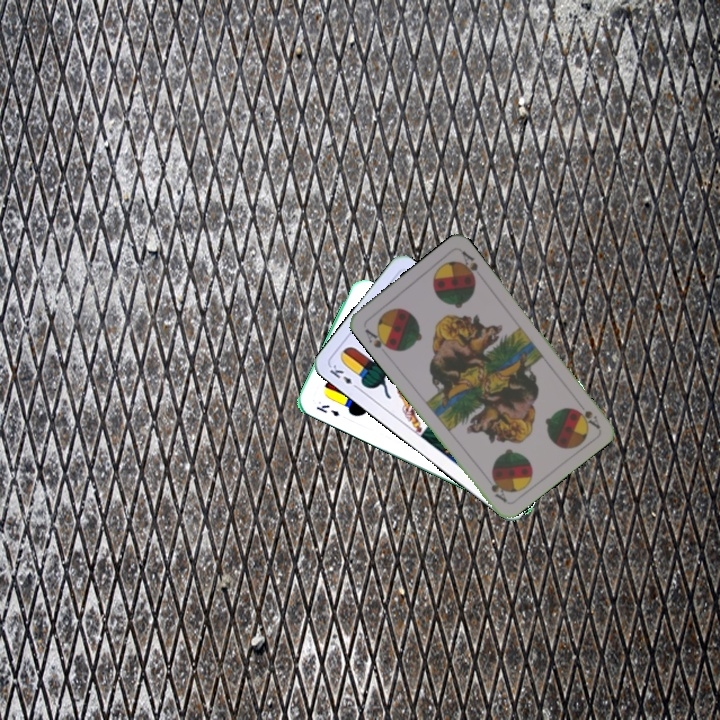EK: (326, 360, 362, 392), (312, 401, 342, 419)
SA: (572, 396, 603, 431), (361, 325, 395, 353)
